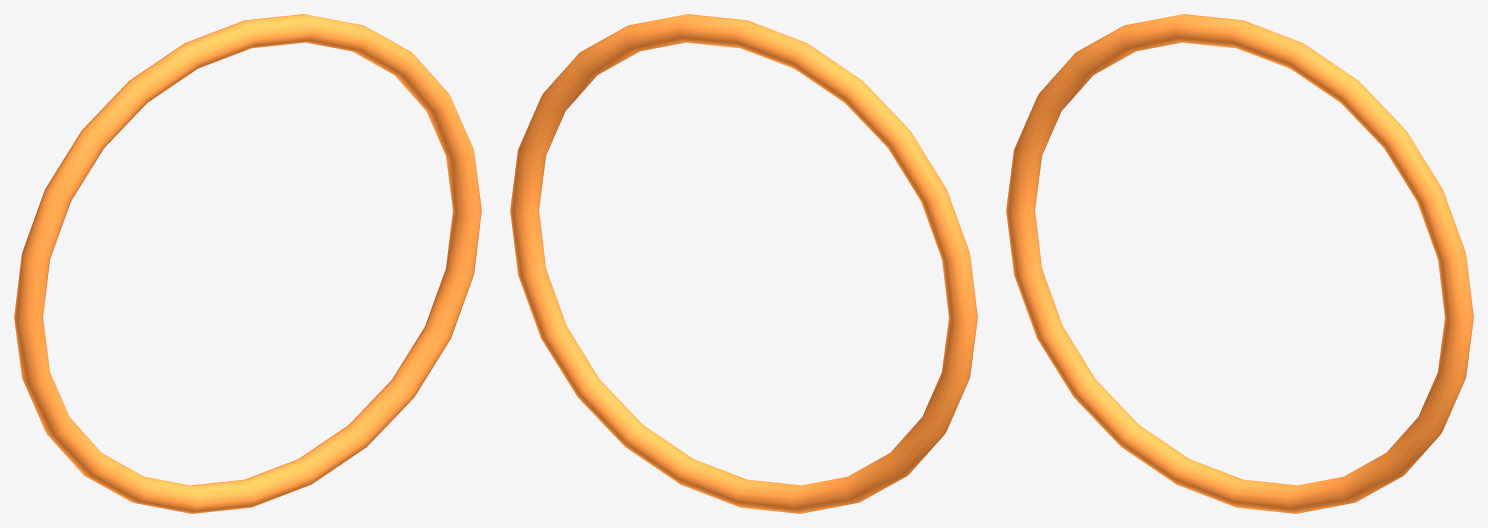
The picture shows the model from 3 angles, left to right: view 1: azimuth 30°, elevation 25°; view 2: azimuth 150°, elevation 25°; view 3: azimuth 330°, elevation 25°; orthographic projection.
Visible parts, largest first — view 1: torus-amber; view 2: torus-amber; view 3: torus-amber.
Part boxes in pixels (x1,y1,x2,y2): torus-amber: (14, 14, 481, 513); torus-amber: (510, 14, 977, 513); torus-amber: (1006, 14, 1473, 513).
Size of the model in its own units: 2.96 by 2.96 by 0.16.
